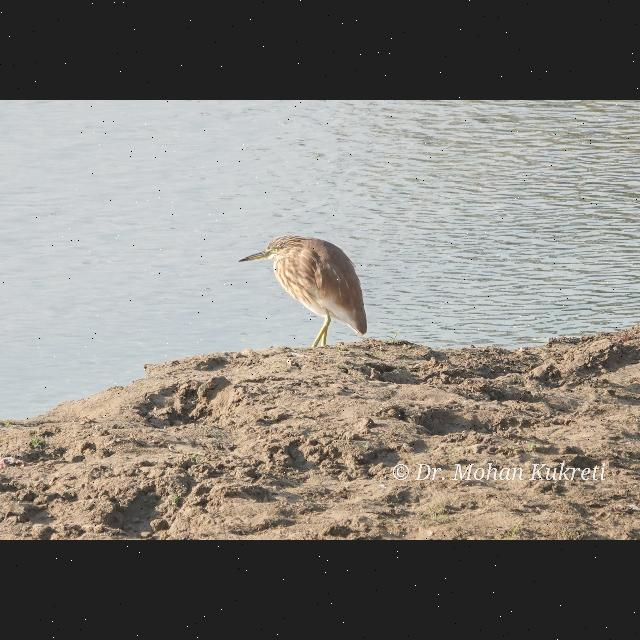heron: (234, 224, 370, 356)
